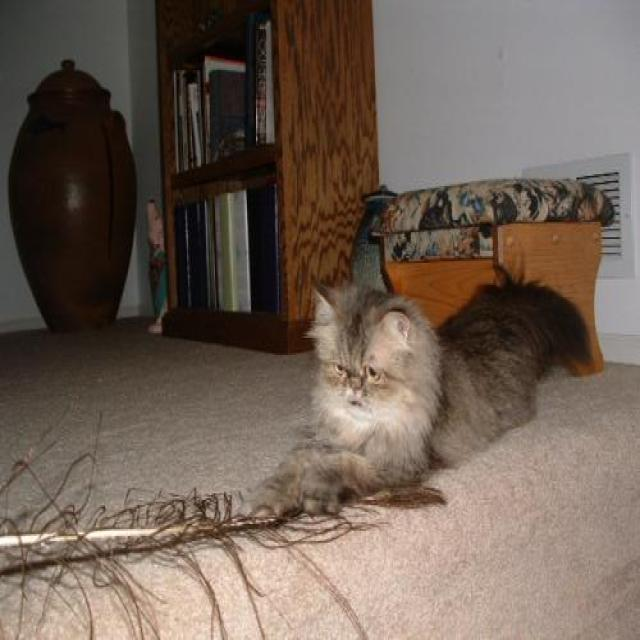Cats: (237, 261, 592, 521)
